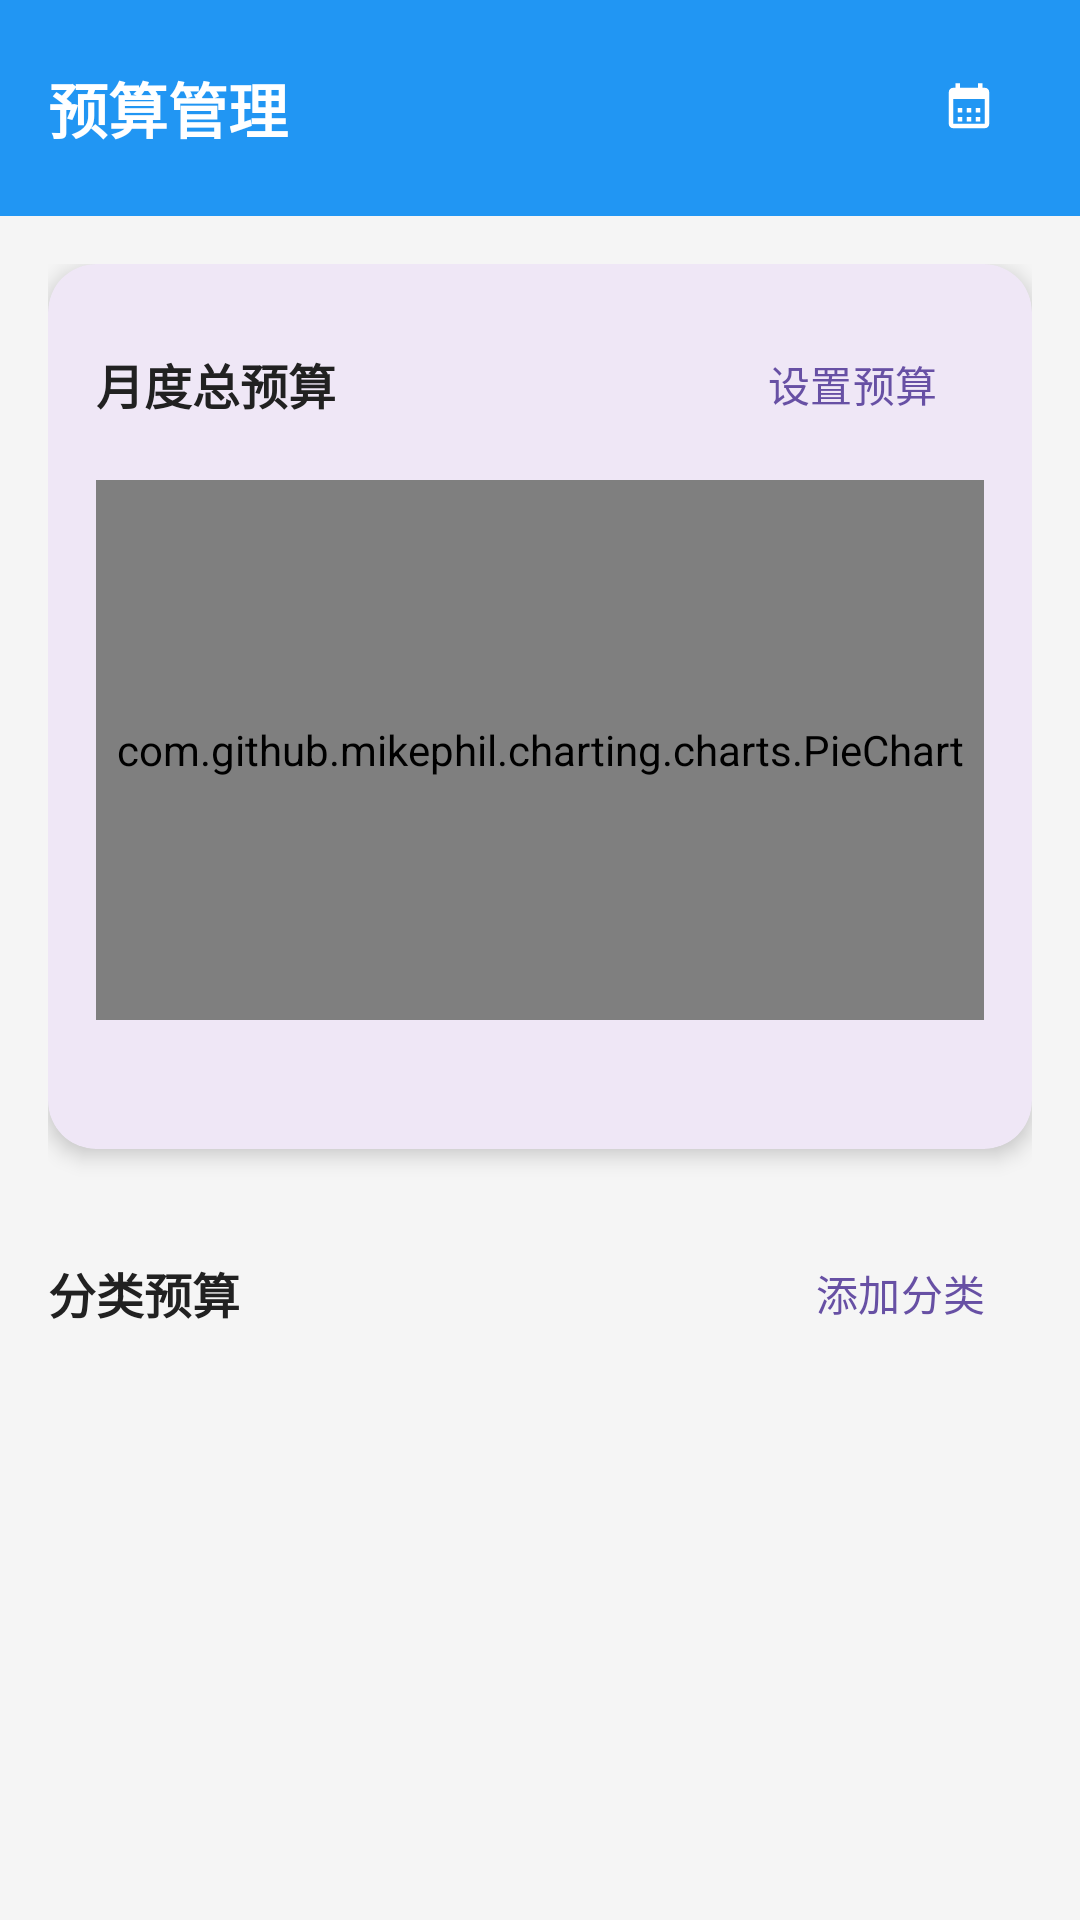

Named icons in this screenshot (1080px x 1920px) and their centers, point (x, y):
calendar: point (969, 106)
